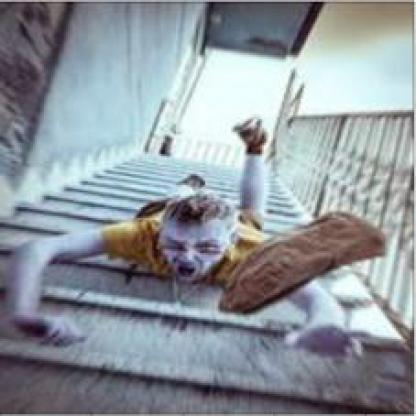stair_down: (66, 251, 326, 401)
